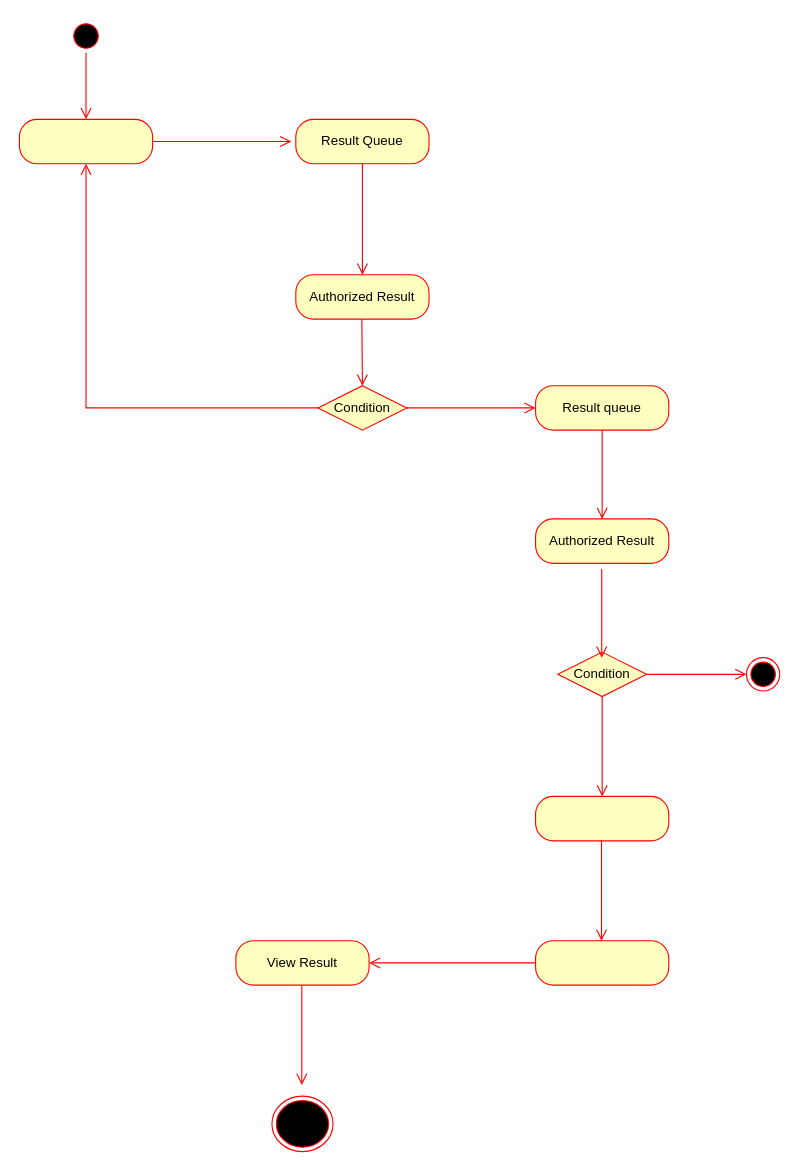
Some shapes in this 799 by 1171 pixel diagram are drawn without their labels. The box of each missing label's shape, as (x1, y1, x2, y2) in pixels:
Enter Result: (18, 118, 153, 164)
Generate Sheet: (534, 795, 669, 841)
Publish Result: (534, 940, 669, 985)
